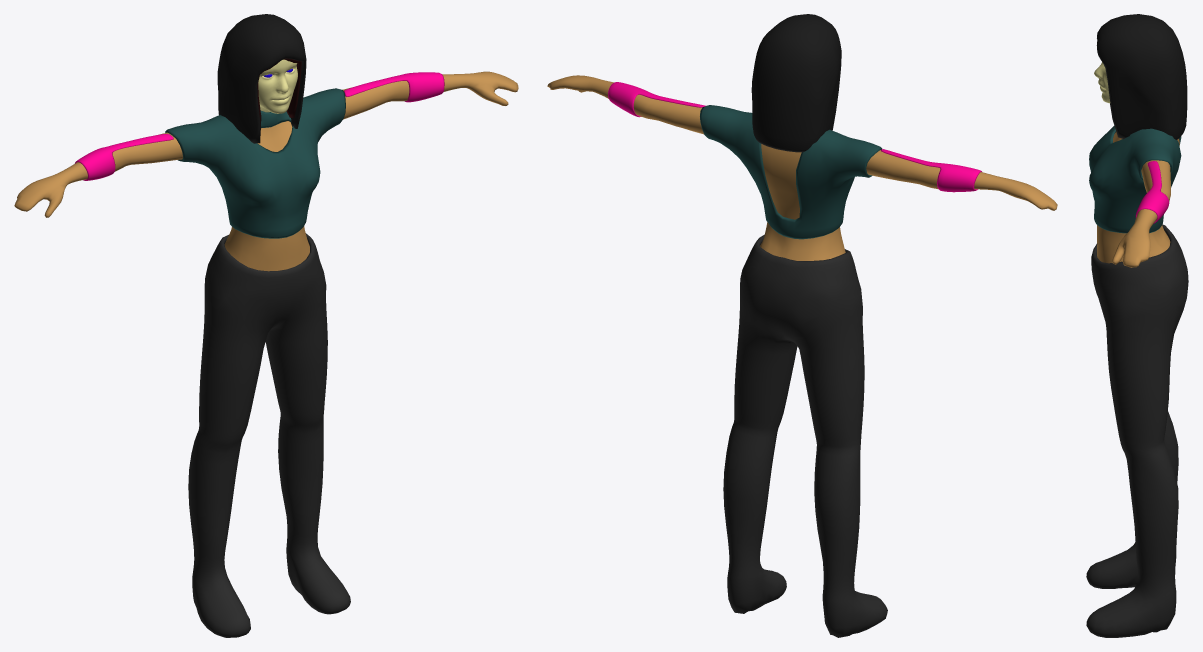
Rendered from ZayaFinalForm.FBX.
3 renders of one model, left to right at view 1: azimuth 30°, elevation 25°; view 2: azimuth 150°, elevation 25°; view 3: azimuth 270°, elevation 25°, orthographic.
Parts seen in each view (by area): view 1: pants, tshirt, body, hood, kolDesen, headNew; view 2: pants, hood, body, tshirt, kolDesen; view 3: pants, hood, tshirt, body, kolDesen, headNew.
Part boxes in pixels (x1=…): pants: x1=188, y1=233, x2=350, y2=637; tshirt: x1=165, y1=88, x2=345, y2=238; body: x1=14, y1=71, x2=518, y2=271; hood: x1=217, y1=14, x2=306, y2=143; kolDesen: x1=75, y1=72, x2=444, y2=180; headNew: x1=258, y1=59, x2=297, y2=113; pants: x1=723, y1=234, x2=887, y2=637; hood: x1=751, y1=14, x2=841, y2=152; body: x1=547, y1=75, x2=1057, y2=260; tshirt: x1=700, y1=105, x2=882, y2=239; kolDesen: x1=608, y1=82, x2=981, y2=192; pants: x1=1086, y1=224, x2=1188, y2=637; hood: x1=1096, y1=14, x2=1187, y2=139; tshirt: x1=1089, y1=125, x2=1181, y2=233; body: x1=1097, y1=132, x2=1179, y2=267; kolDesen: x1=1135, y1=161, x2=1169, y2=223; headNew: x1=1094, y1=62, x2=1110, y2=103.
Bounding box in the file's own units: 154 × 173 × 27.14.
